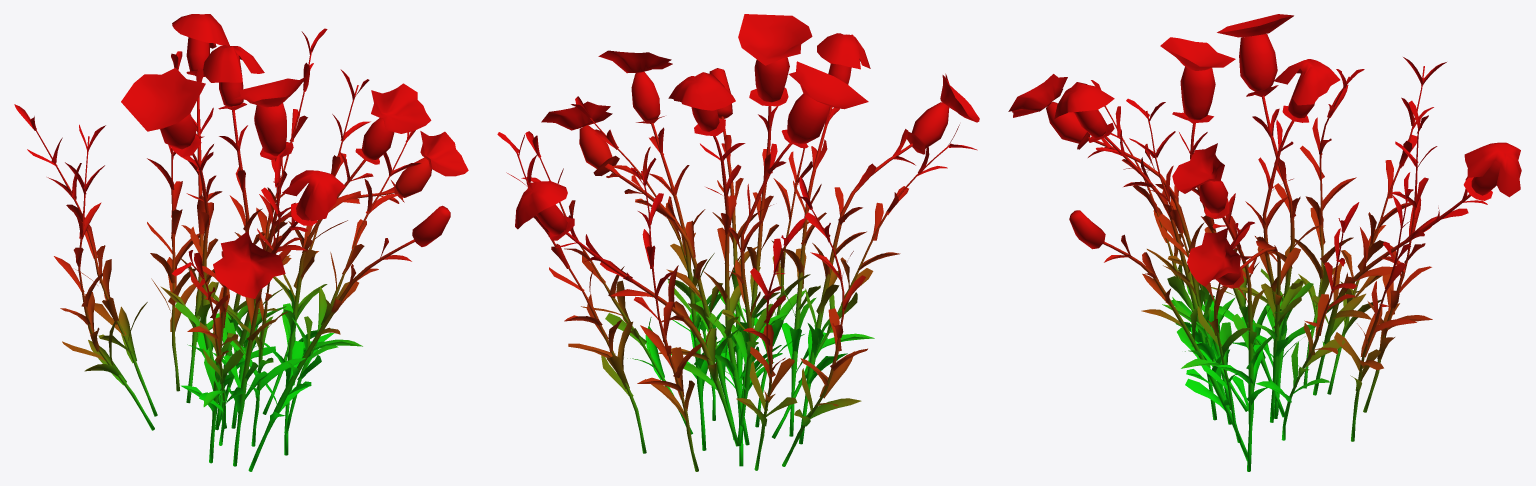
Rendered from Var3_LOD0.fbx.
3 views of the same model, side by side, from view 1: azimuth 30°, elevation 25°; view 2: azimuth 150°, elevation 25°; view 3: azimuth 270°, elevation 25° (orthographic). The views are drawn at different scales.
Visible parts, largest first — view 1: _y3fx_Var3_LOD0; view 2: _y3fx_Var3_LOD0; view 3: _y3fx_Var3_LOD0.
Boxes of the visible parts, x1,y1,x2,y2 form: _y3fx_Var3_LOD0: (14,14,468,471); _y3fx_Var3_LOD0: (497,14,979,471); _y3fx_Var3_LOD0: (1008,14,1521,471).
Bounding box in the file's own units: 22.52 × 24.88 × 27.86.
